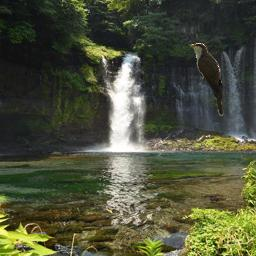Cuckoo: (188, 42, 225, 117)
